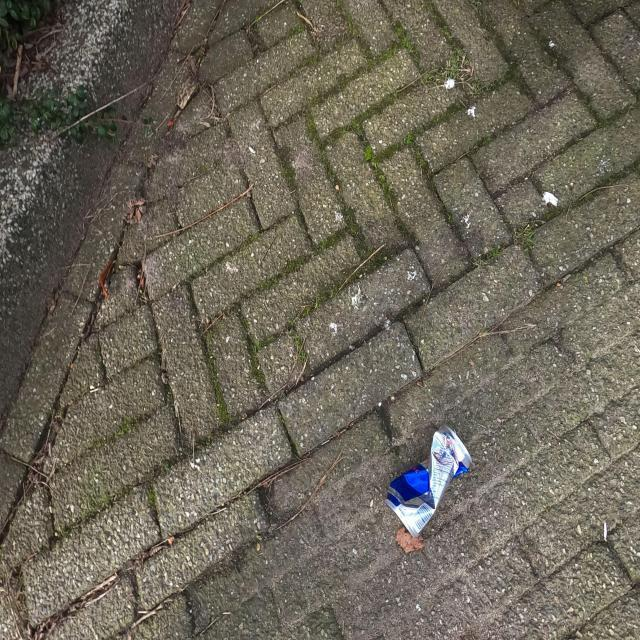Can-Metal: (384, 422, 474, 540)
